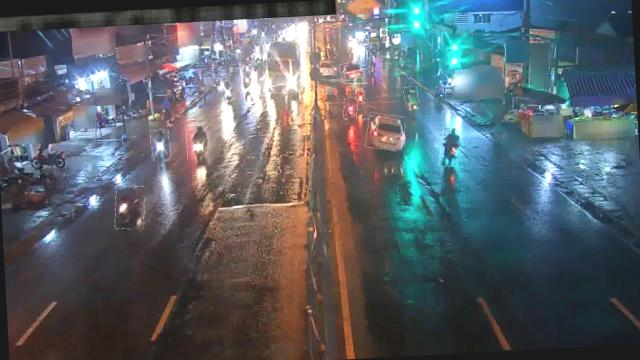Bike: (113, 184, 145, 229), (438, 126, 461, 166), (186, 124, 207, 161), (150, 128, 170, 160), (404, 85, 420, 109), (343, 97, 358, 120), (221, 81, 232, 102), (242, 68, 252, 88), (368, 57, 376, 73), (354, 88, 364, 100)
Car: (365, 112, 406, 151), (339, 61, 362, 80)
Truck: (260, 40, 302, 94)
